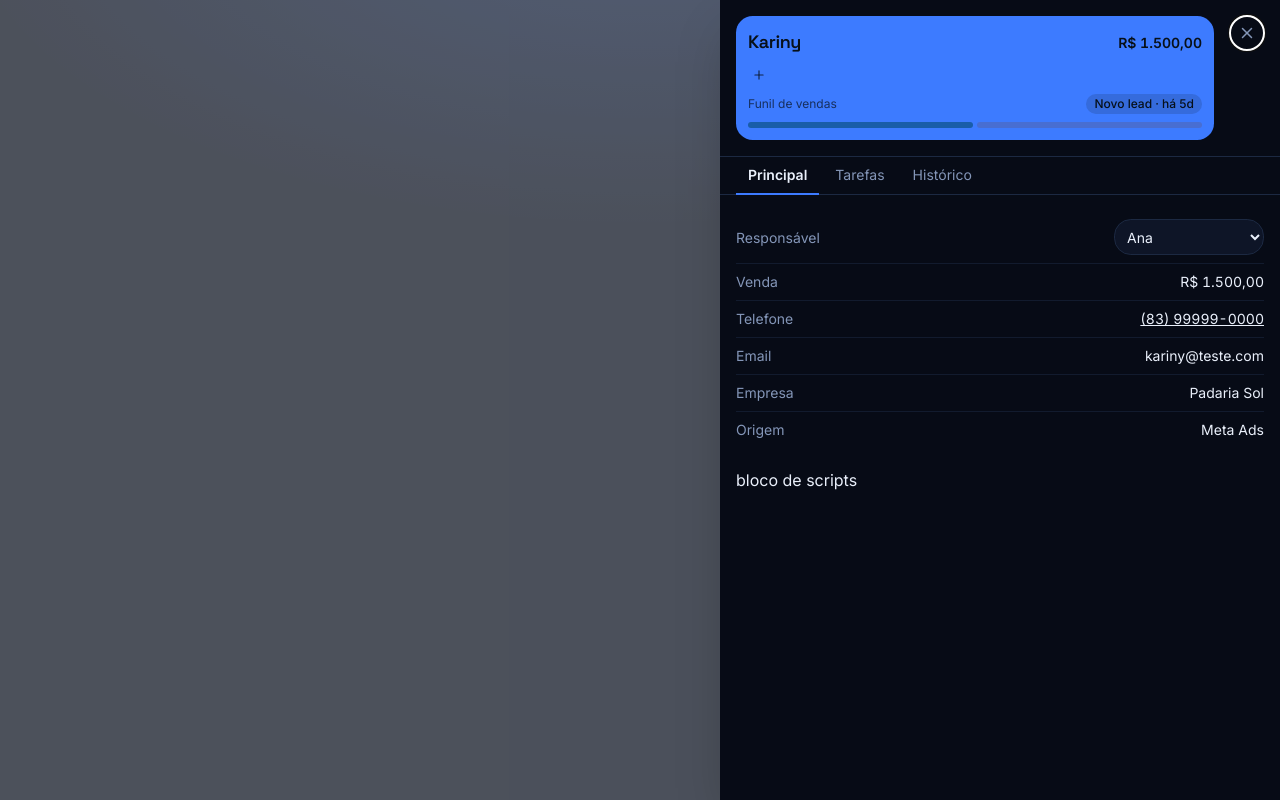
Scenario: DrawerLead › aba Histórico mostra a linha do tempo — vazia, o aviso de que nada aconteceu
The image size is (1280, 800).
Click the tab "Histórico": (942, 176) [901,157,984,195]
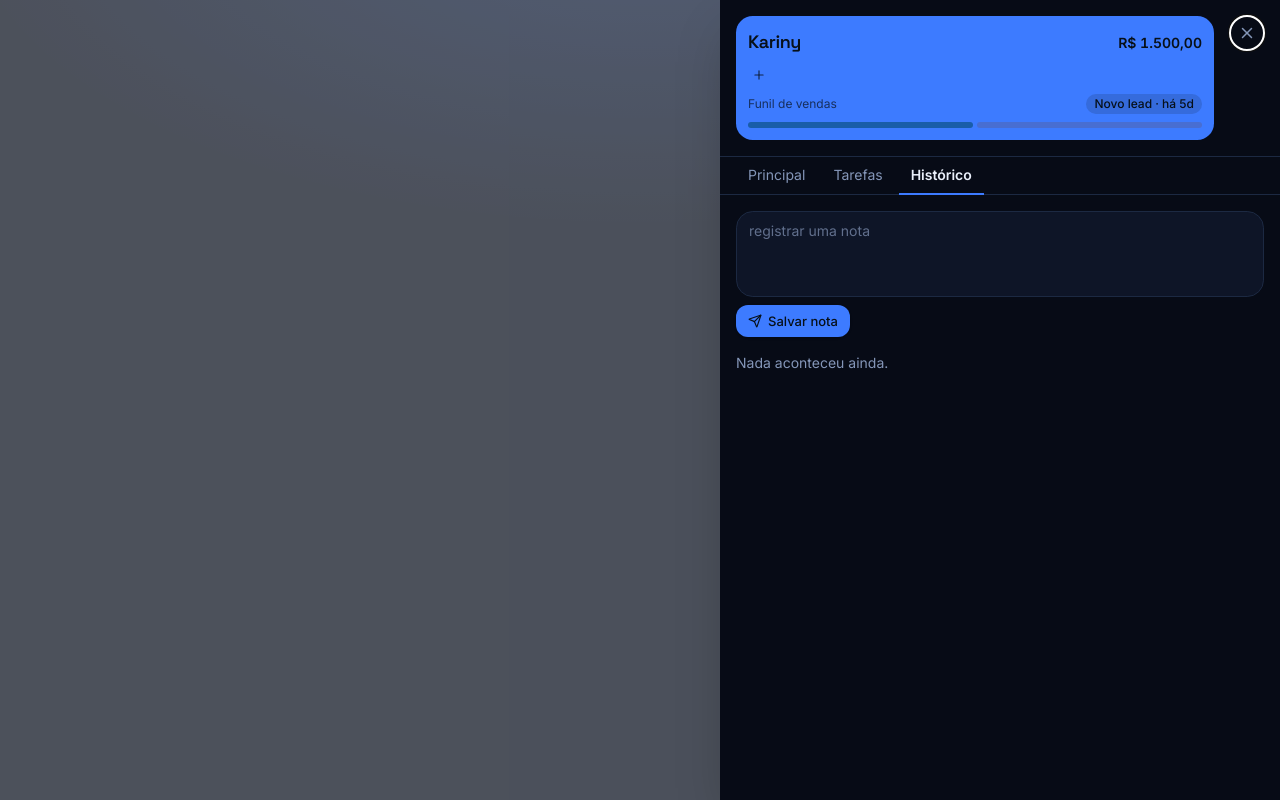
Check: the text "Nada aconteceu ainda." is shown, box [736,354,888,371]
Check: the text "bloco de scripts" is gone
